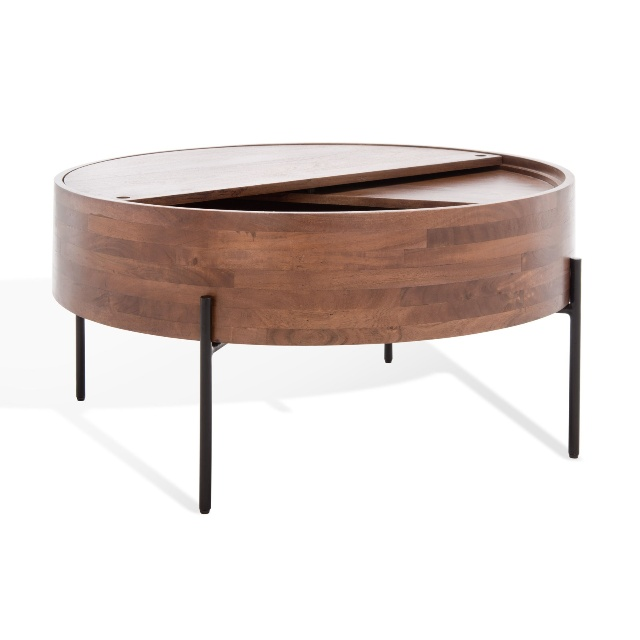obstacle: (53, 144, 580, 512)
